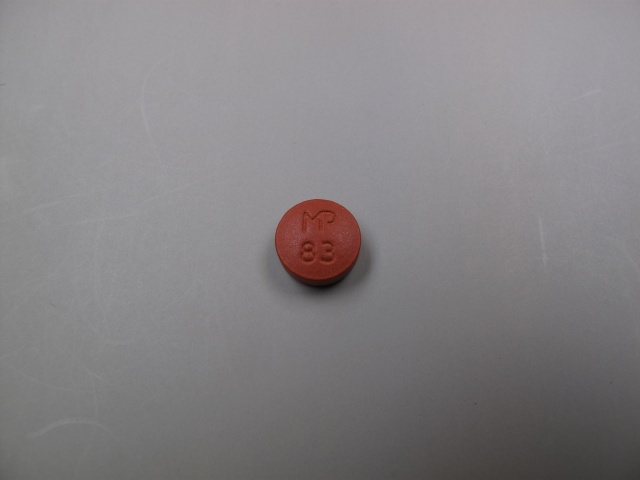3: (318, 238, 335, 268)
8: (299, 238, 317, 268)
M: (299, 210, 324, 234)
